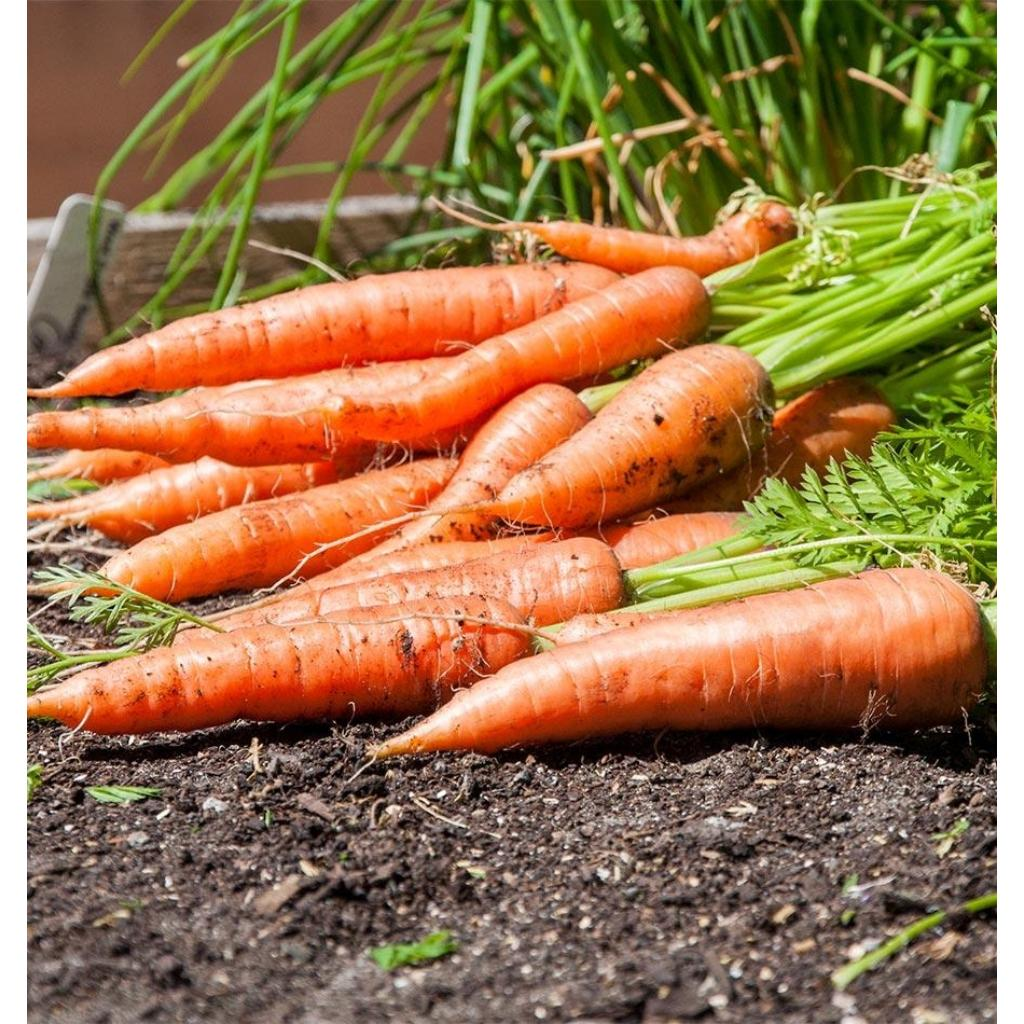carrot: (27, 535, 985, 756), (27, 265, 708, 463), (372, 568, 984, 756), (29, 262, 617, 396), (27, 595, 529, 732), (479, 344, 771, 525), (99, 457, 454, 600), (662, 376, 894, 511), (27, 456, 337, 542)
